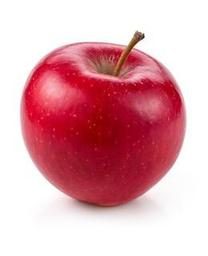apple: (19, 30, 187, 207)
